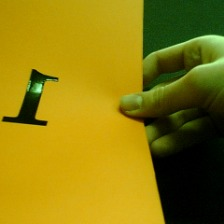orange1: (1, 63, 61, 129)
